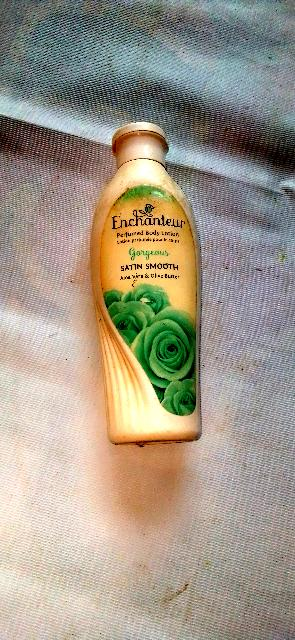hardplastic: (74, 125, 218, 445)
